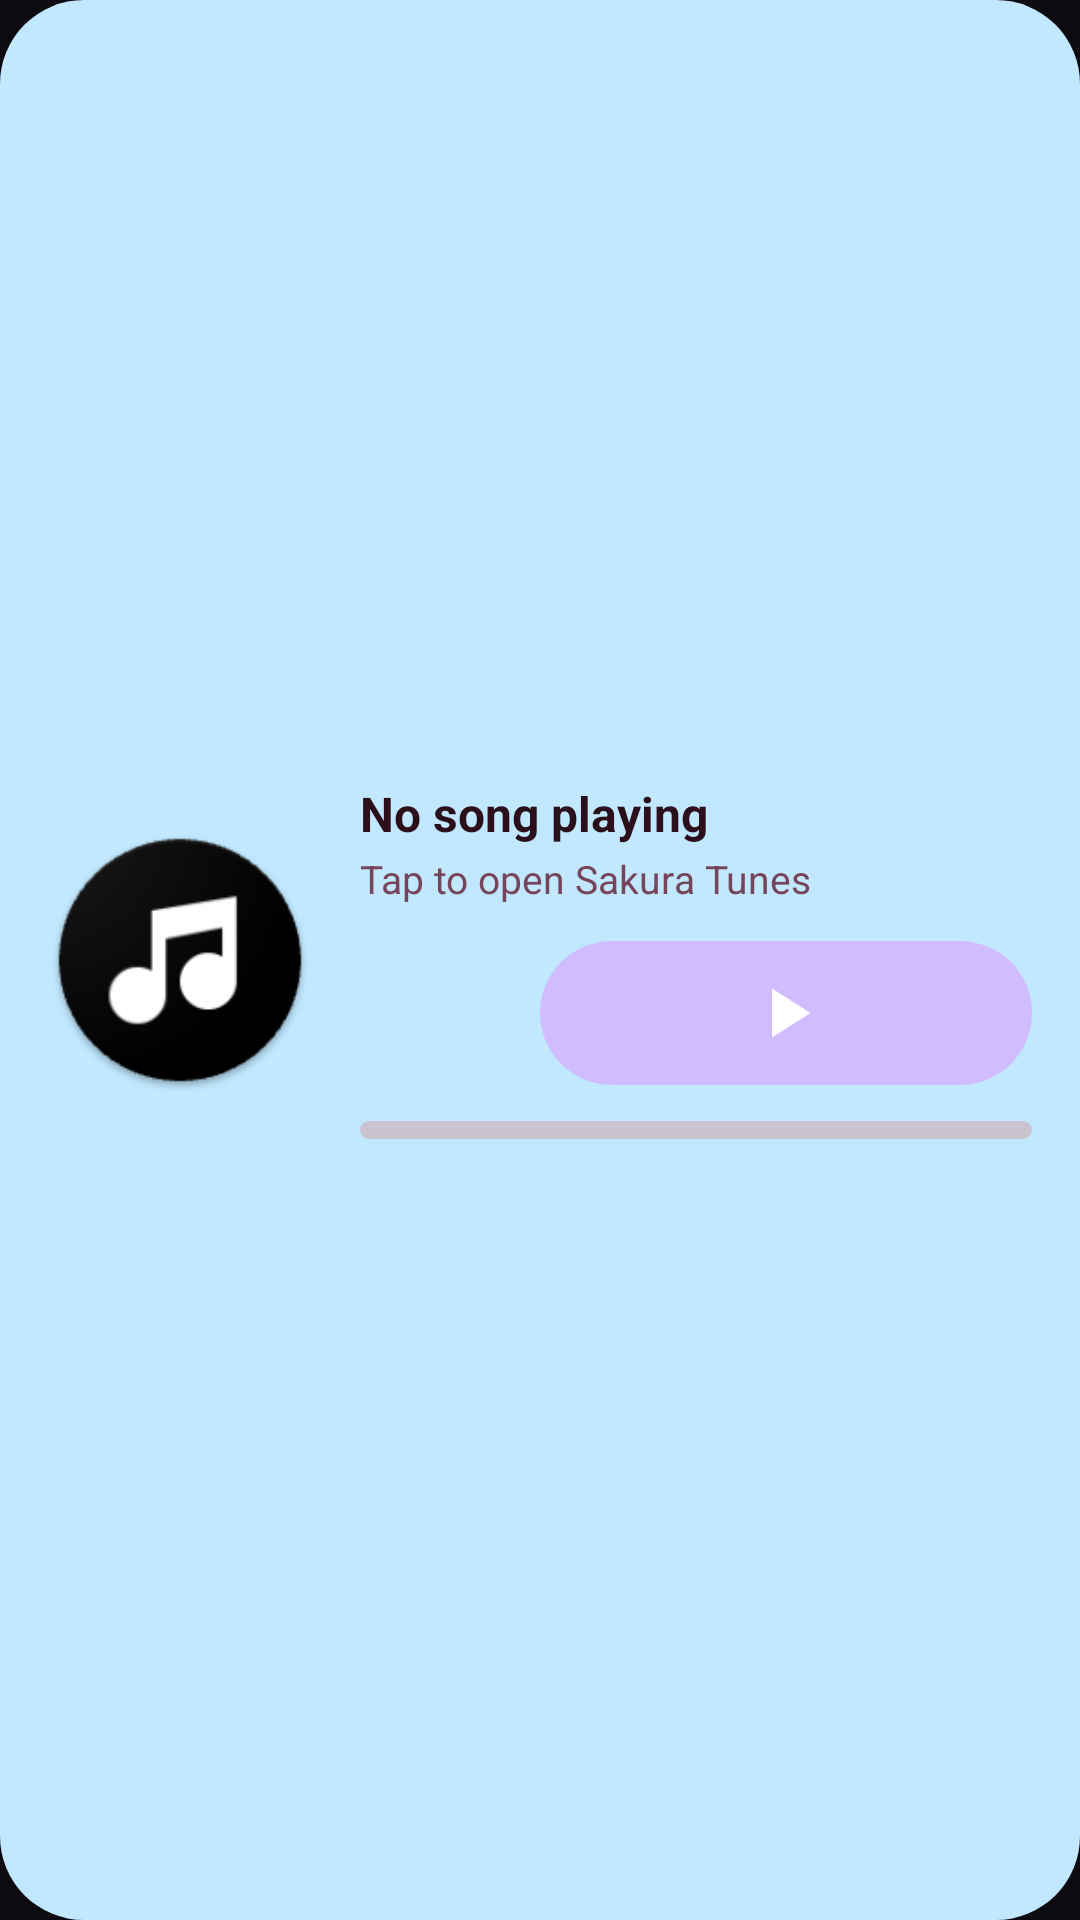

Screen size 1080 x 1920. Icon name, then its box in pixels as (x1, y1, x2, y2):
Play/Pause: (772, 989, 810, 1037)
